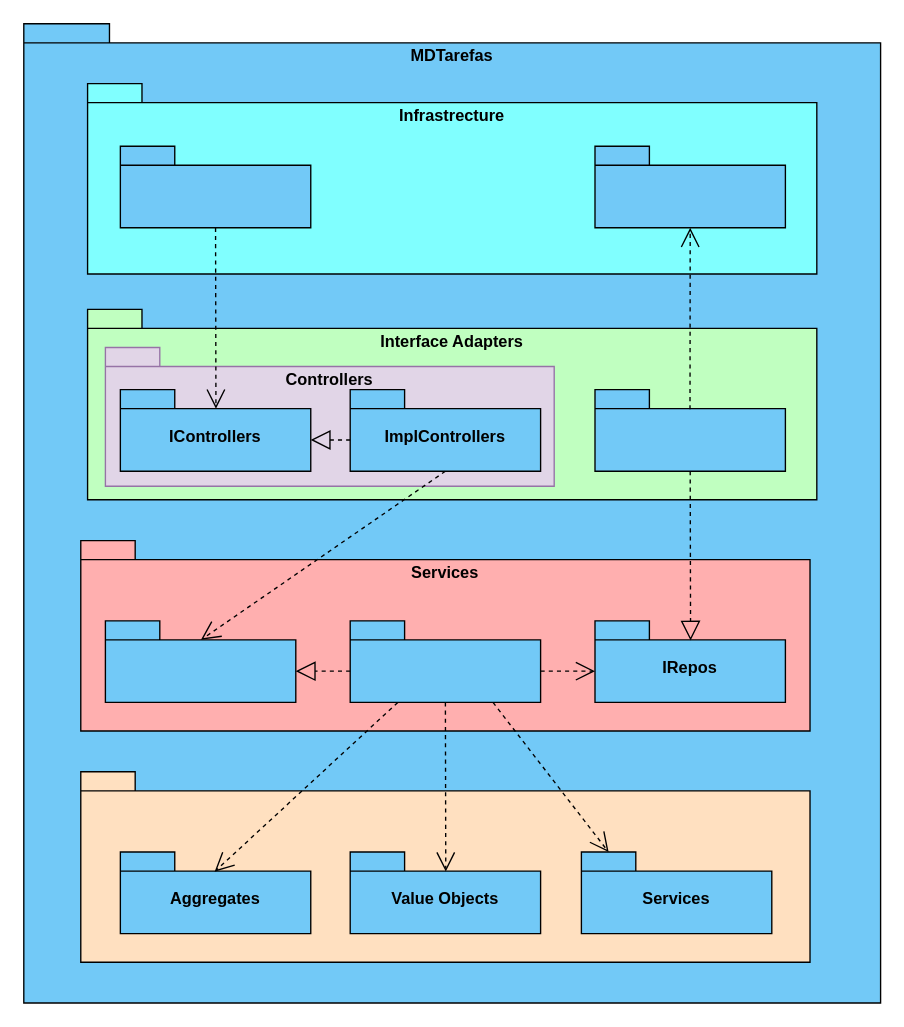
Image size: 904x1027. Some labels were removed from this diagram. Here are the shapes that lost their labels. From the top down, the box of each, then its label:
(119, 145, 311, 228): Routes
(594, 145, 785, 228): Schemas
(594, 388, 785, 471): Repos
(104, 619, 296, 702): IServices
(349, 619, 541, 702): ImplServices
(79, 770, 810, 962): Entities/Core/Domain
